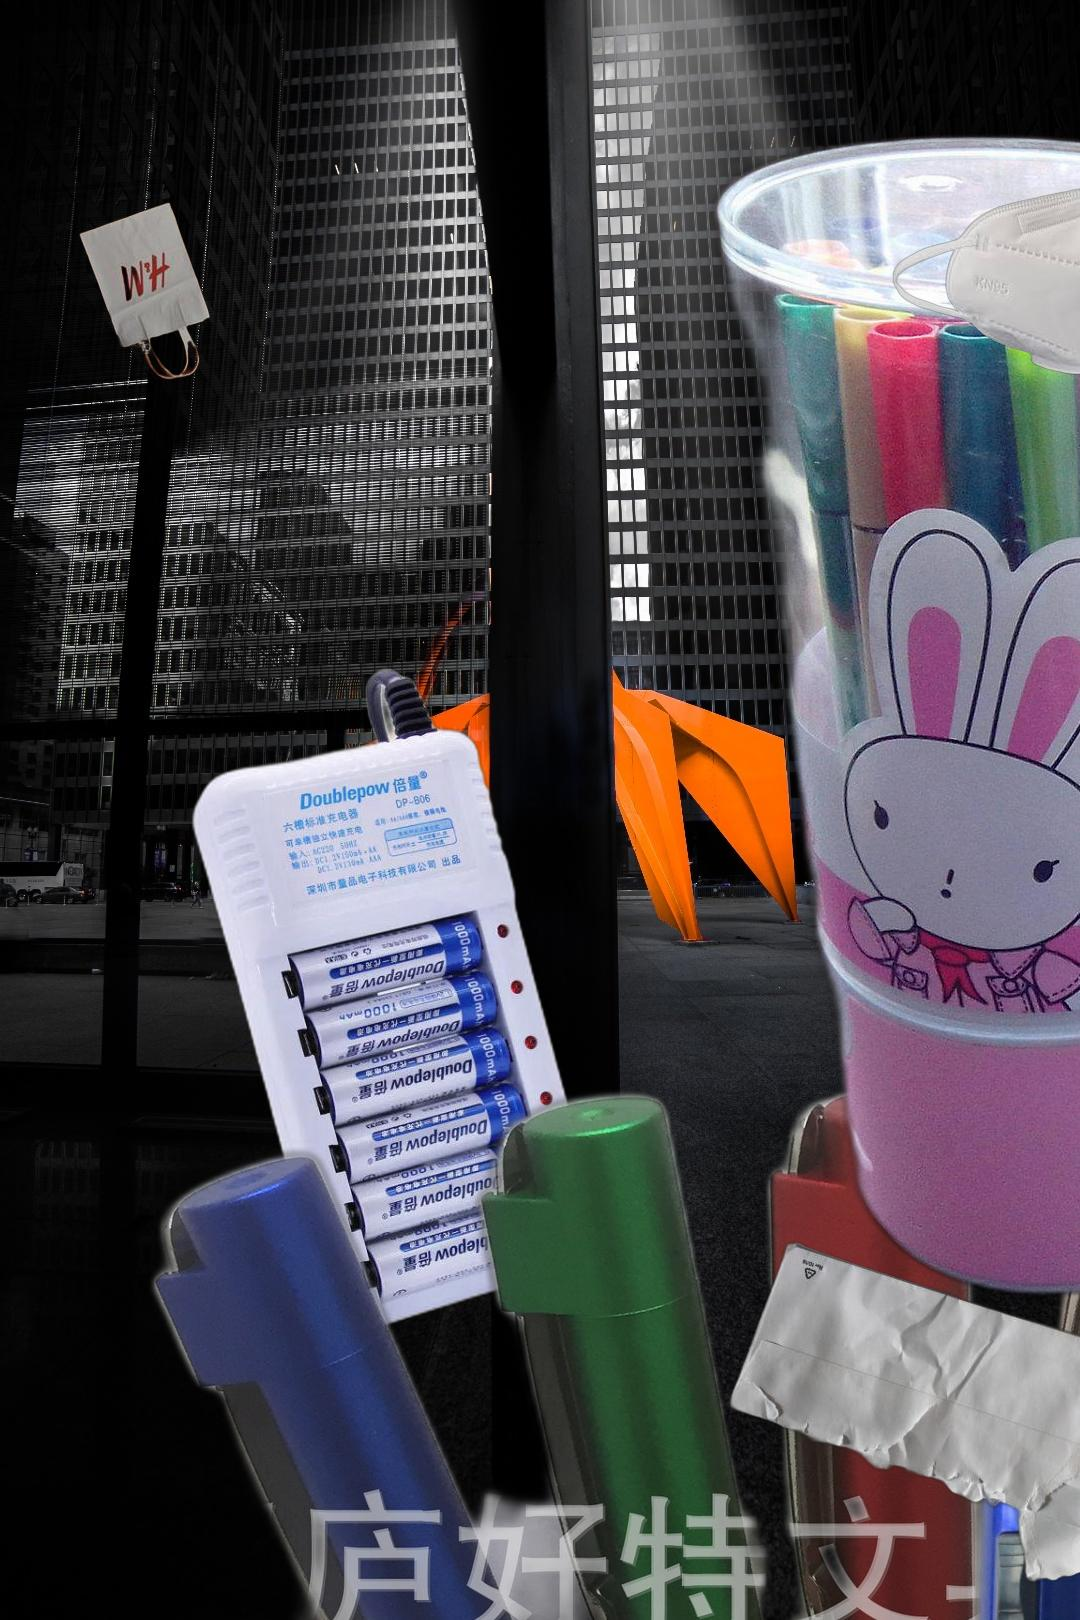battery: (184, 661, 607, 1339)
paper: (724, 1239, 1080, 1586)
paper-bag: (76, 200, 213, 382)
penholder: (118, 1062, 1080, 1620), (636, 124, 1080, 1305), (867, 1426, 1080, 1620)
trash: (890, 187, 1080, 375)
